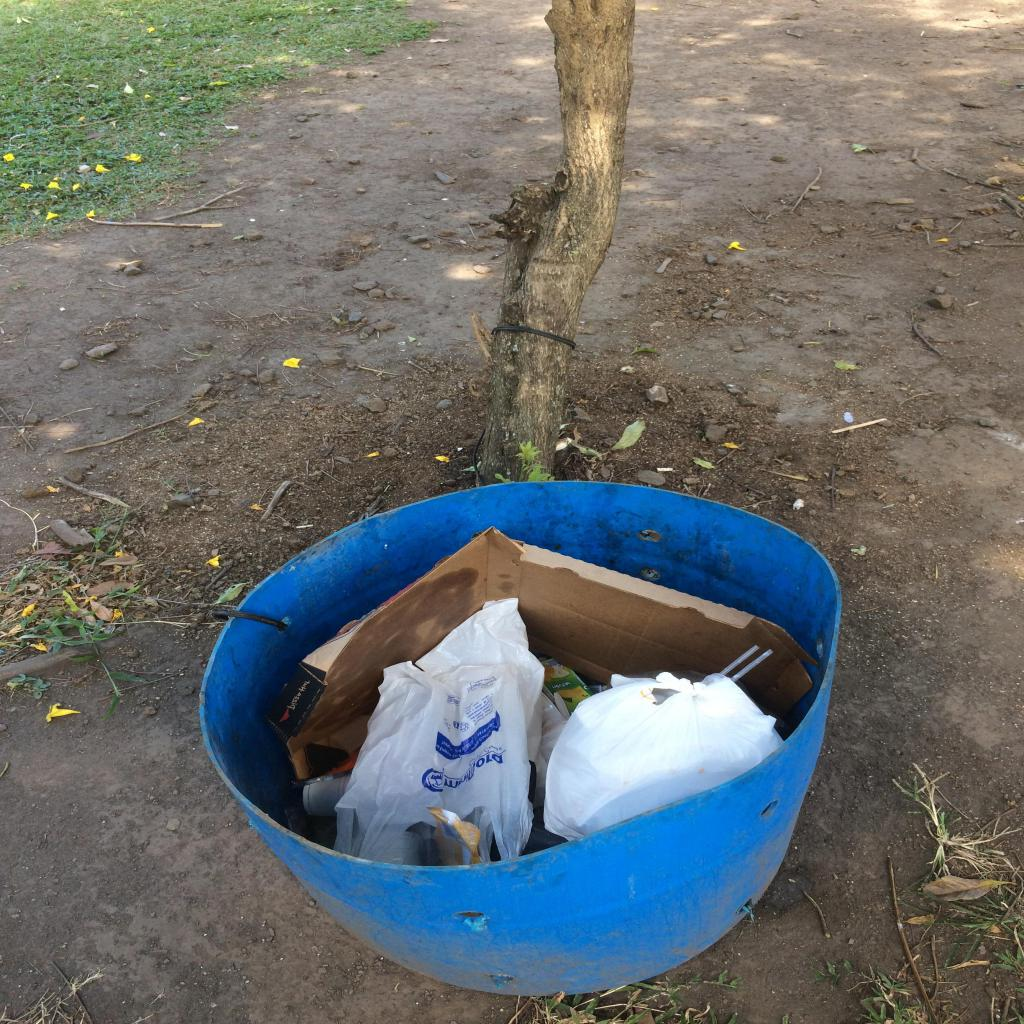Cigarette: (656, 468, 672, 472)
Drink carton: (540, 658, 594, 716)
Paper cup: (302, 774, 350, 816)
Pizza box: (263, 527, 820, 779)
Plastic film: (426, 808, 482, 866)
Plastic straw: (730, 648, 774, 682), (718, 645, 760, 675)
Single-use carrier bag: (334, 598, 568, 862), (544, 672, 784, 840)
